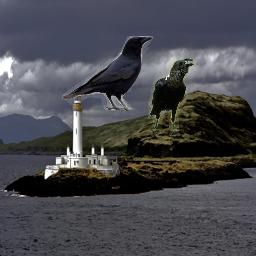Crow: (62, 36, 153, 111), (148, 56, 196, 134)
